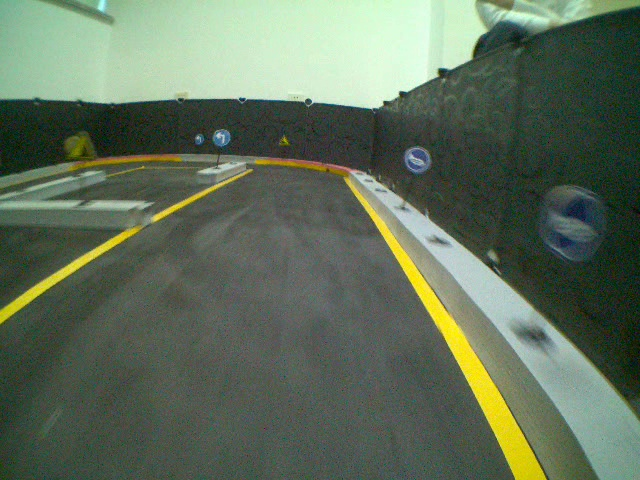fast: (65, 131, 99, 162), (275, 133, 289, 147)
horn: (541, 184, 607, 264), (404, 147, 432, 172)
turn: (210, 128, 230, 148)
